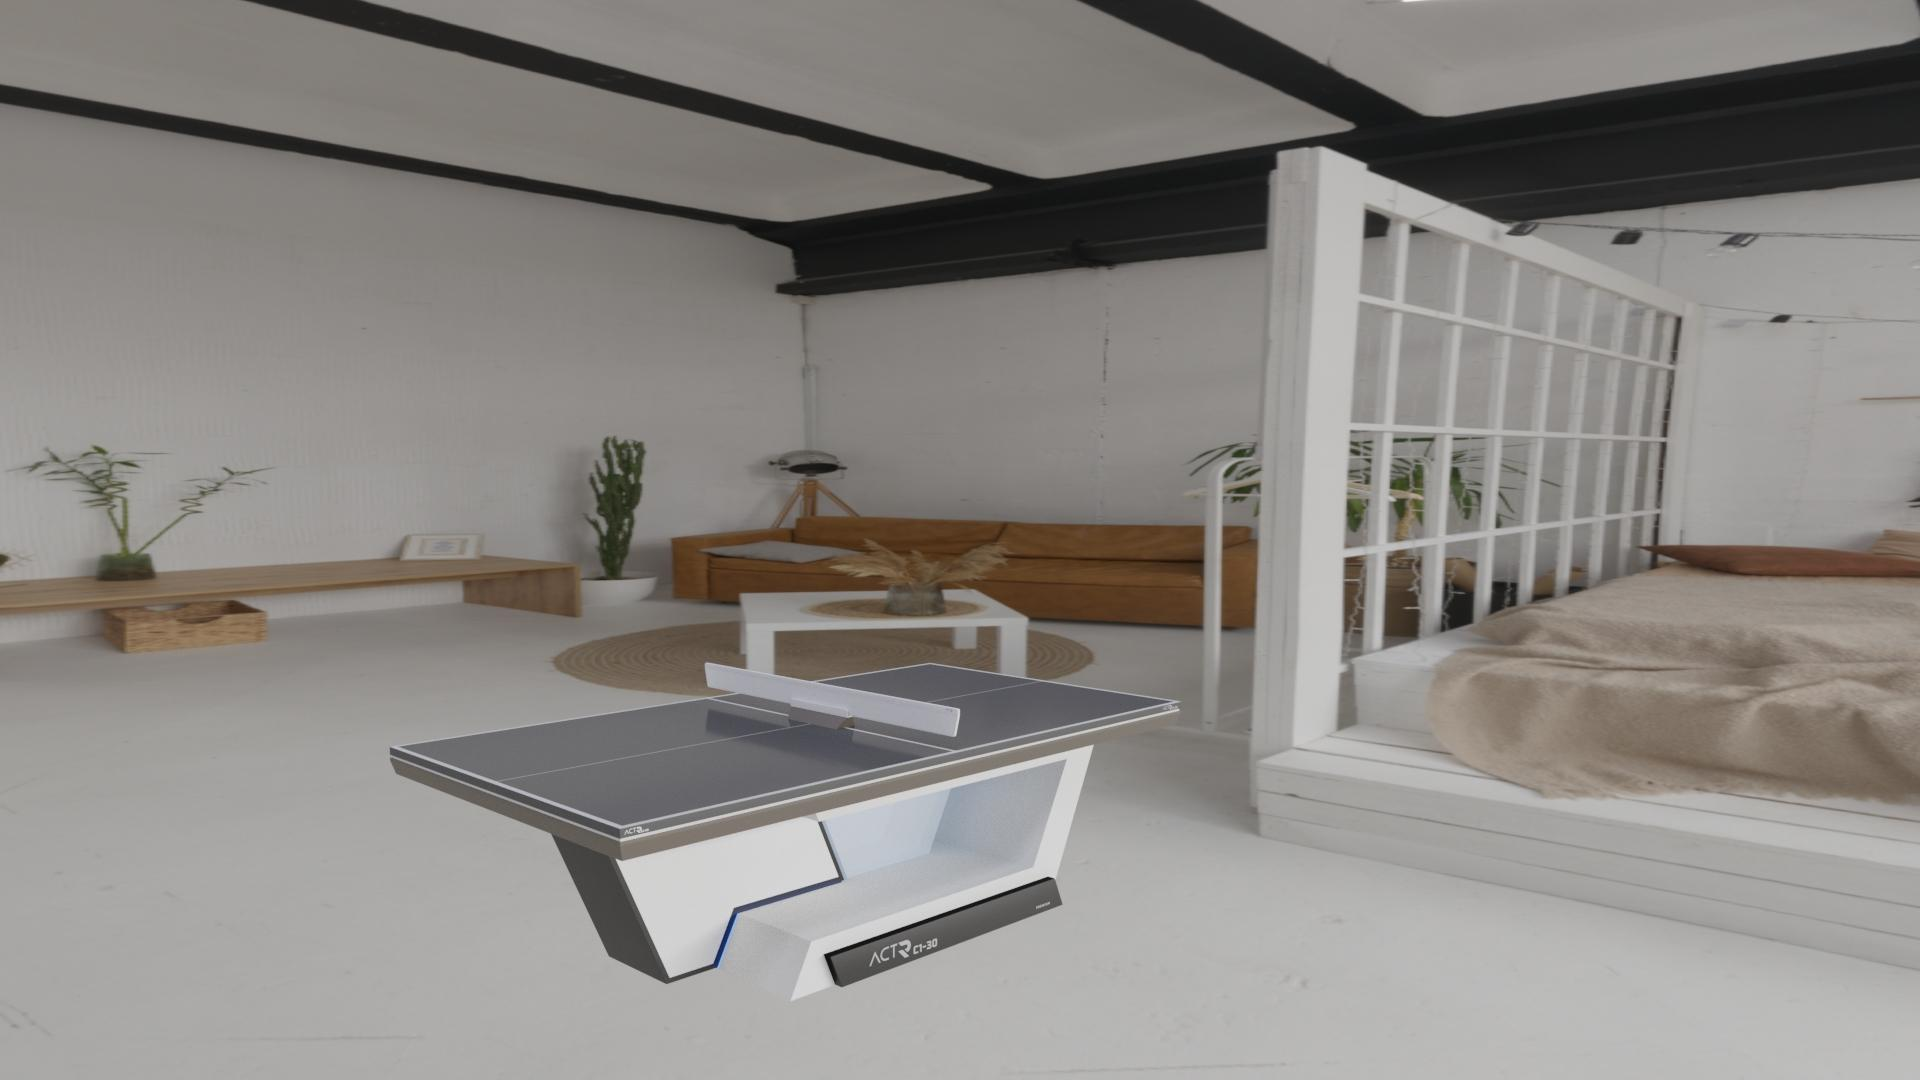table: (397, 663, 1175, 825)
